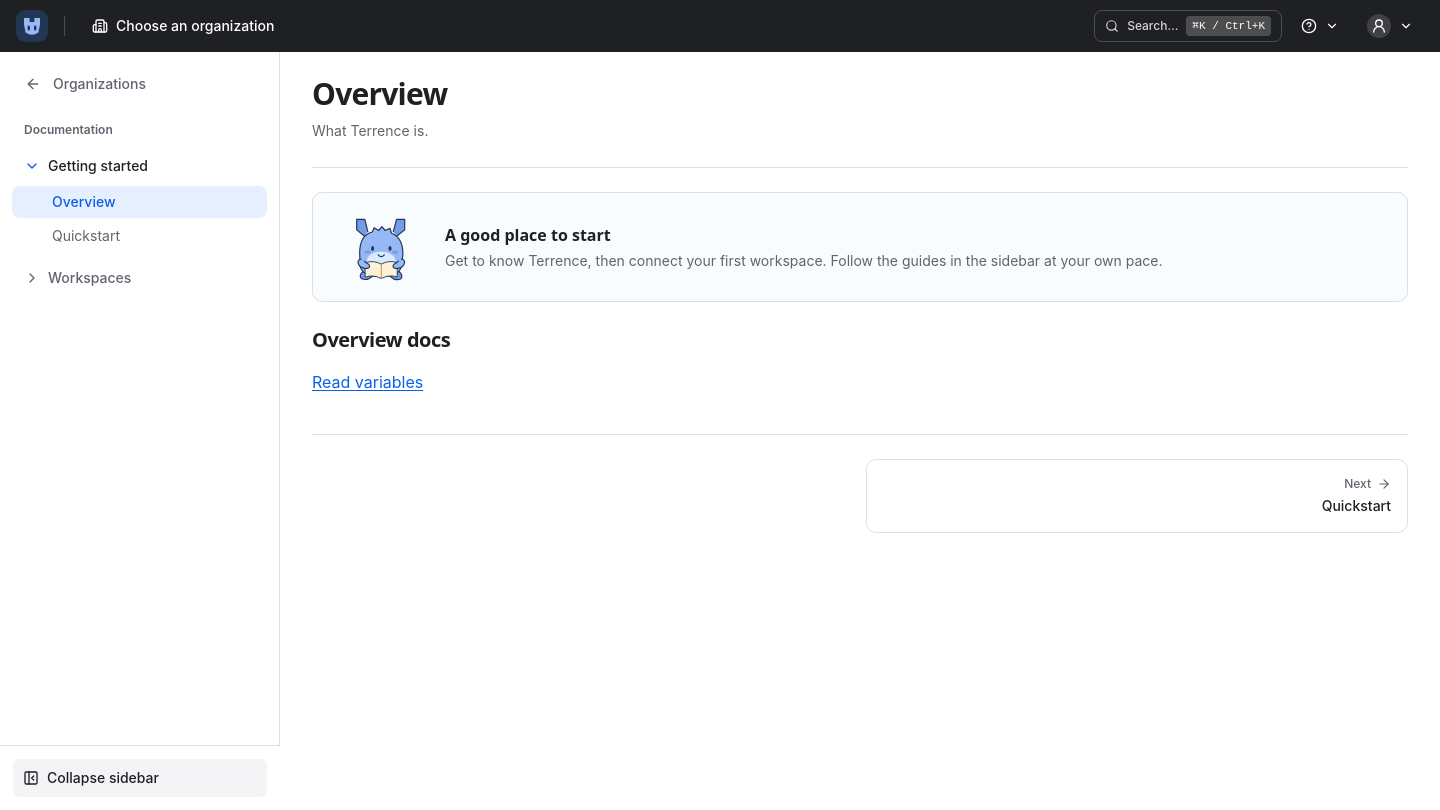
it: shows previous and next navigation within the same category
Expected: the heading "Overview" is shown, [312,76,447,112]
Expected: the link "Previous" is not shown
Note: Last document of a category: previous only.
Click the link "Next Quickstart" at (1356, 505), box [866,459,1408,533]
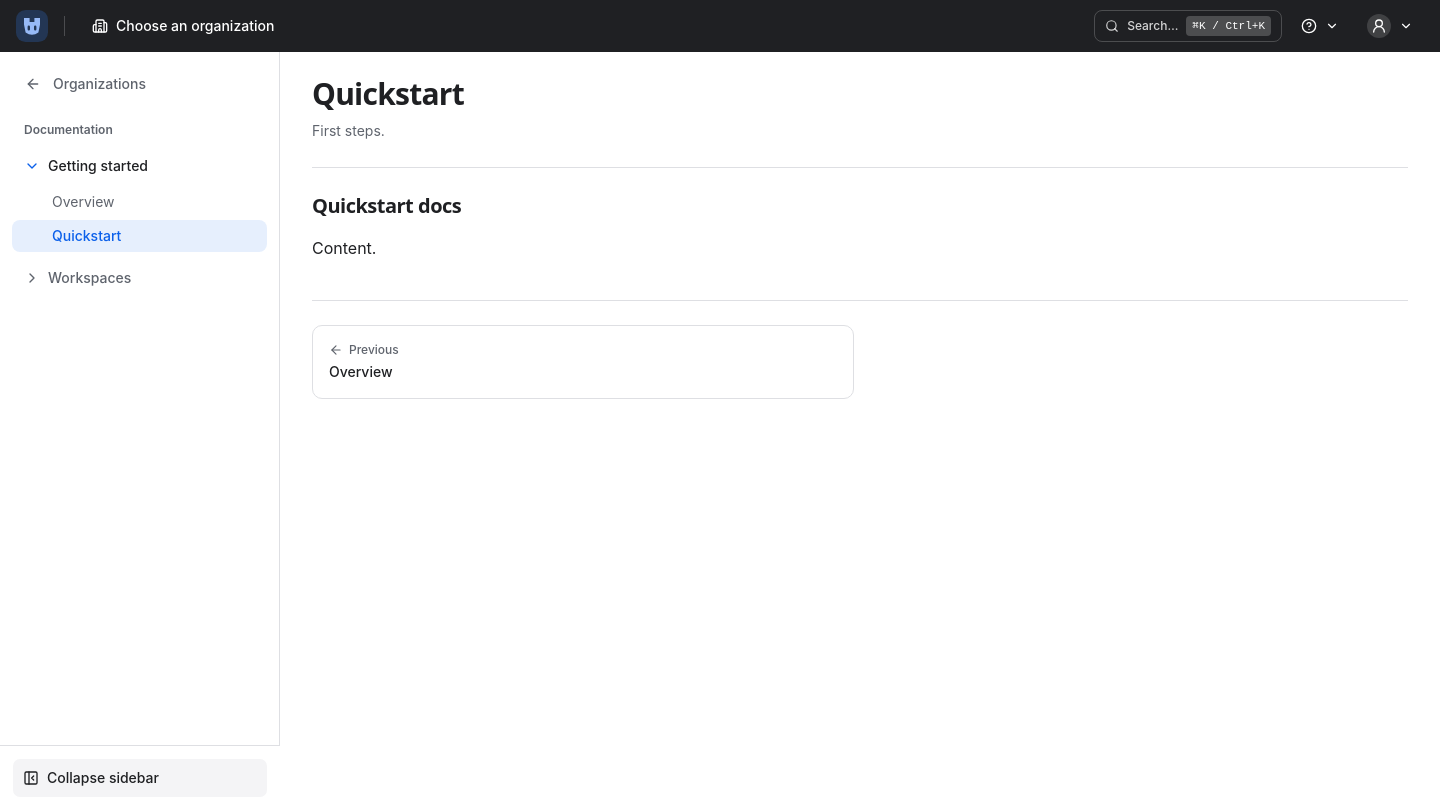
Now the heading "Quickstart" is shown, box [312,76,464,112]
Now the link "Previous Overview" is shown
Now the link "Next" is gone
Note: Middle document: both directions.
Click the link "Previous Overview" at (374, 349), box [312,325,854,399]
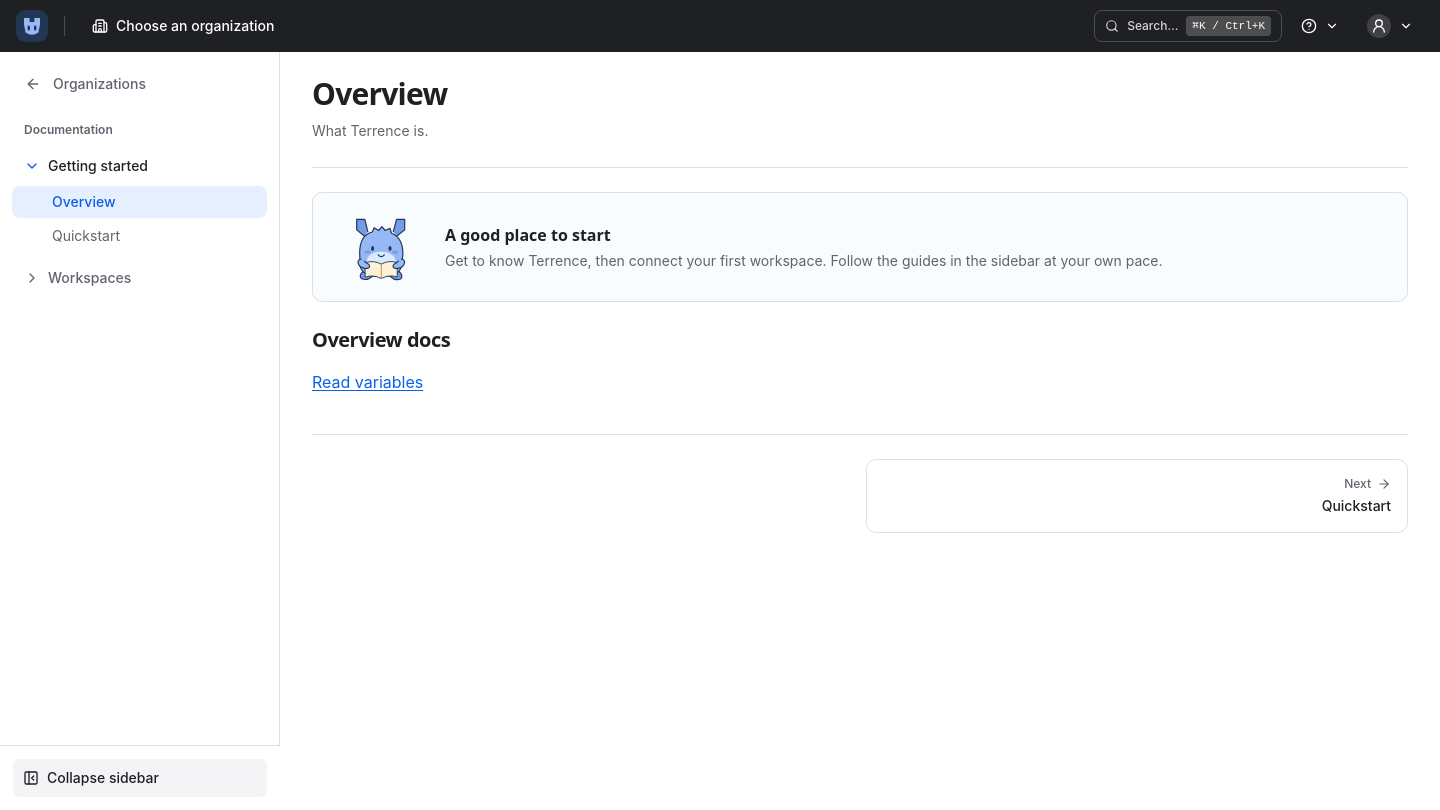
Now the heading "Overview" is shown, box [312,76,447,112]
Now the link "Next Quickstart" is shown, box [866,459,1408,533]
